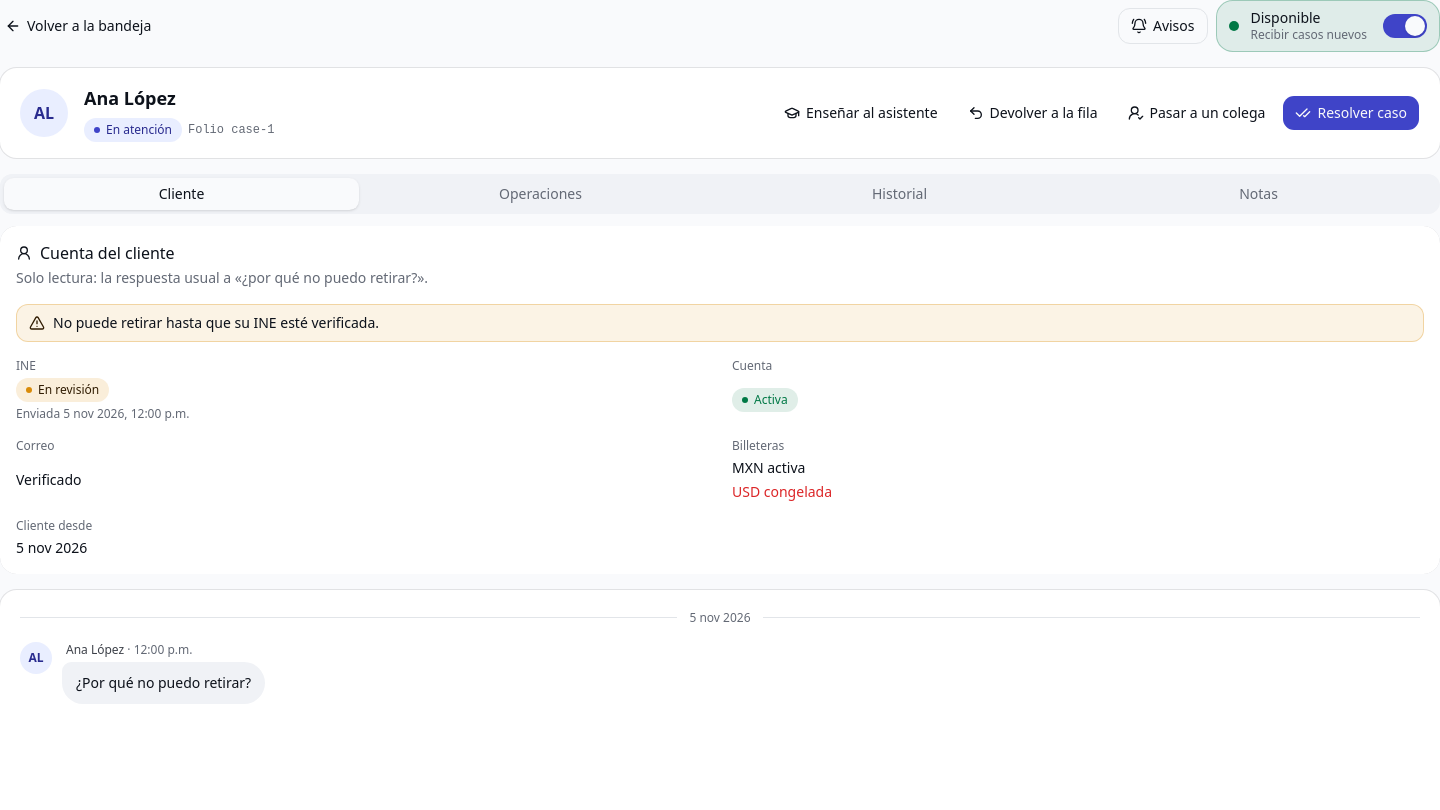
Test: handing the case over › stays on the case when the colleague was just taken
Click the button "Pasar a un colega".
click(1196, 112)  # box [1114, 94, 1278, 130]
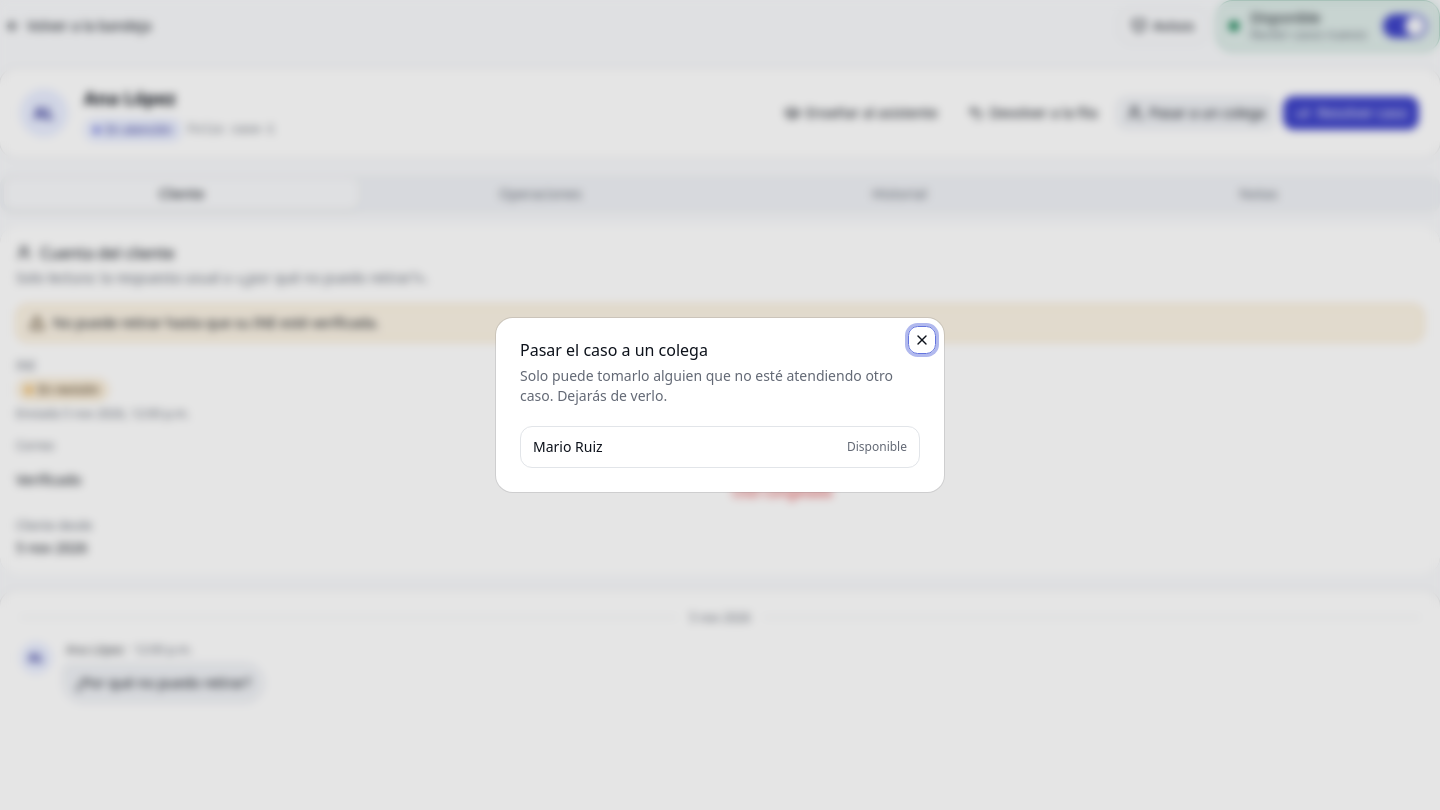
Click the button with aria-label "Pasar el caso a Mario Ruiz".
click(568, 446)  # box [521, 427, 919, 467]
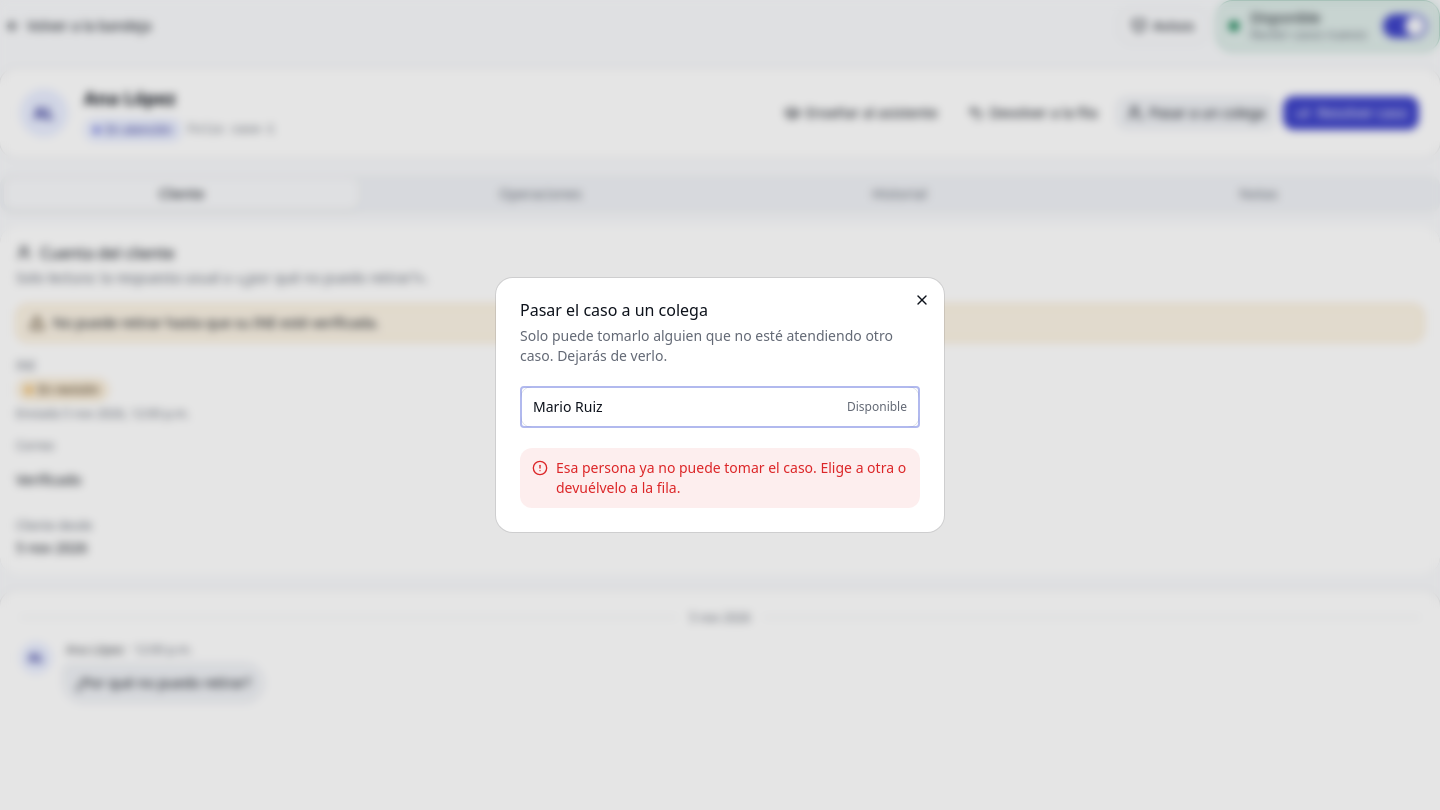
expect the text "Esa persona ya no puede tomar el caso" is shown: met, box [556, 458, 906, 497]
